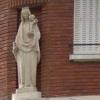Statue: (8, 2, 47, 94)
